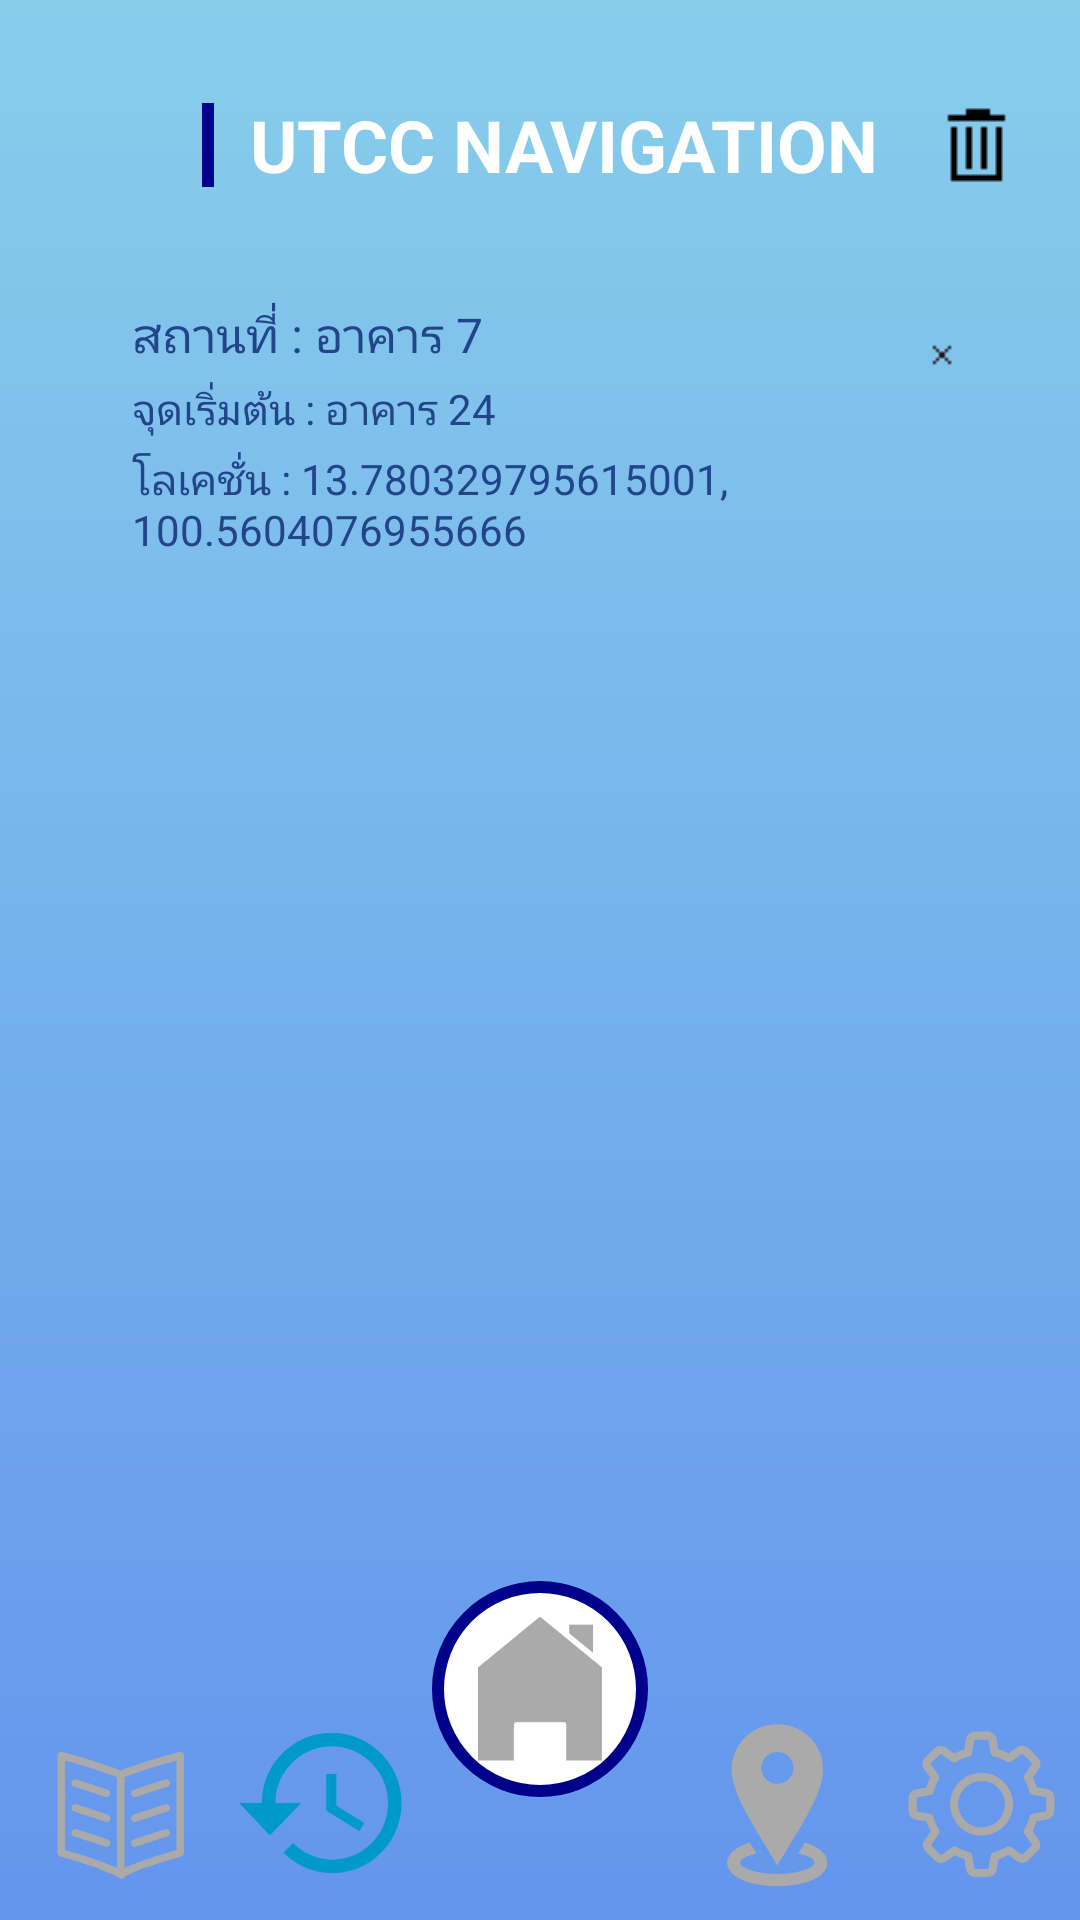

Where to tap for icons on this 1080 × 1920 app screen, as (x,y):
about: (120,1815)
delete: (976,145)
gmap: (777,1805)
history: (321,1803)
setting: (981,1804)
